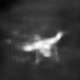plane: (22, 30, 65, 65)
